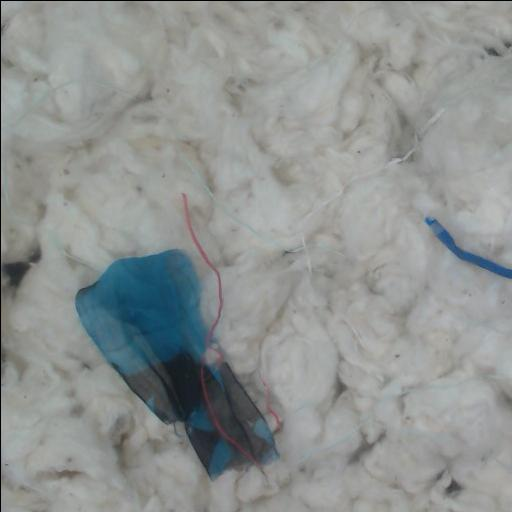cloth: (75, 197, 277, 478), (425, 218, 512, 278)
cotton: (1, 1, 512, 512)
thread: (209, 177, 361, 268), (182, 193, 224, 373), (201, 369, 263, 466), (367, 108, 444, 175), (263, 405, 282, 435), (259, 370, 269, 400)
